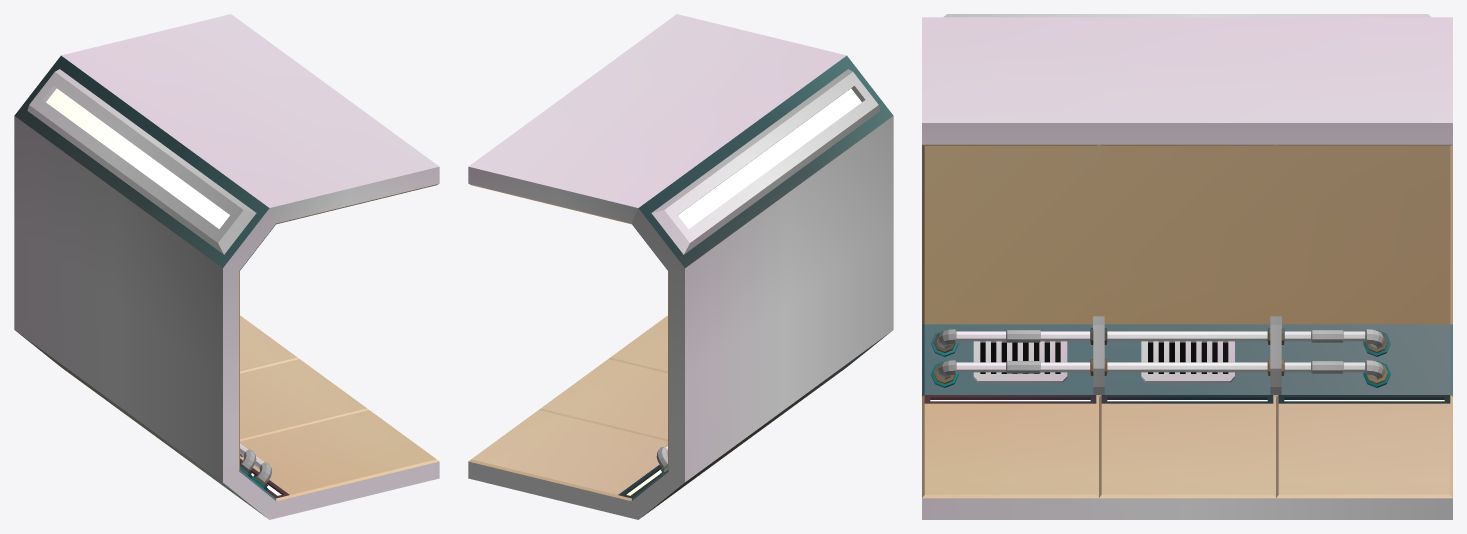
The model's file is C_forBigDoor_L.fbx.
3 renders of one model, left to right at view 1: azimuth 30°, elevation 25°; view 2: azimuth 150°, elevation 25°; view 3: azimuth 270°, elevation 25°, orthographic. The views are drawn at different scales.
Visible parts, largest first — view 1: C_forBigDoor_L; view 2: C_forBigDoor_L; view 3: C_forBigDoor_L.
Boxes of the visible parts, x1,y1,x2,y2 form: C_forBigDoor_L: (14,14,439,519); C_forBigDoor_L: (468,14,893,519); C_forBigDoor_L: (922,14,1452,519).
Bounding box in the file's own units: 240 × 330 × 400.
